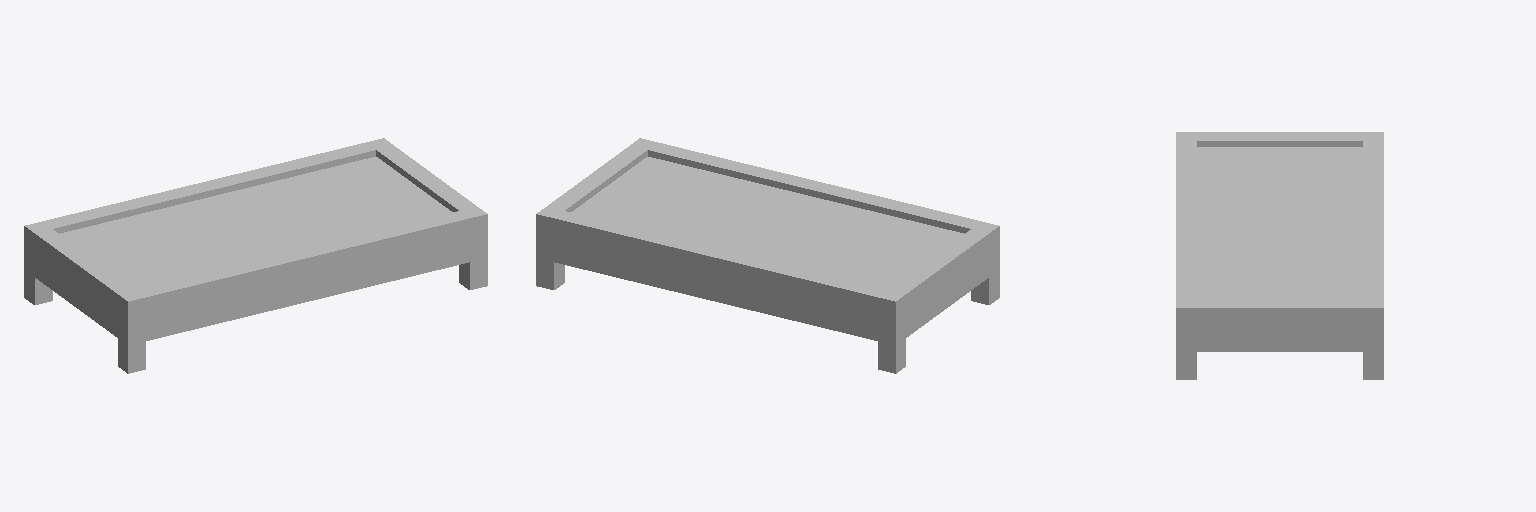
The model's file is Prop Cot (4).obj.
The picture shows the model from 3 angles: view 1: azimuth 30°, elevation 25°; view 2: azimuth 150°, elevation 25°; view 3: azimuth 270°, elevation 25°; orthographic projection.
Parts seen in each view (by area): view 1: Prop Cot (4); view 2: Prop Cot (4); view 3: Prop Cot (4).
Part boxes in pixels (left/top/right/bottom): Prop Cot (4): left=24, top=138, right=487, bottom=373; Prop Cot (4): left=536, top=138, right=999, bottom=373; Prop Cot (4): left=1176, top=132, right=1383, bottom=379.
Size of the model in its own units: 2 by 0.3838 by 1.